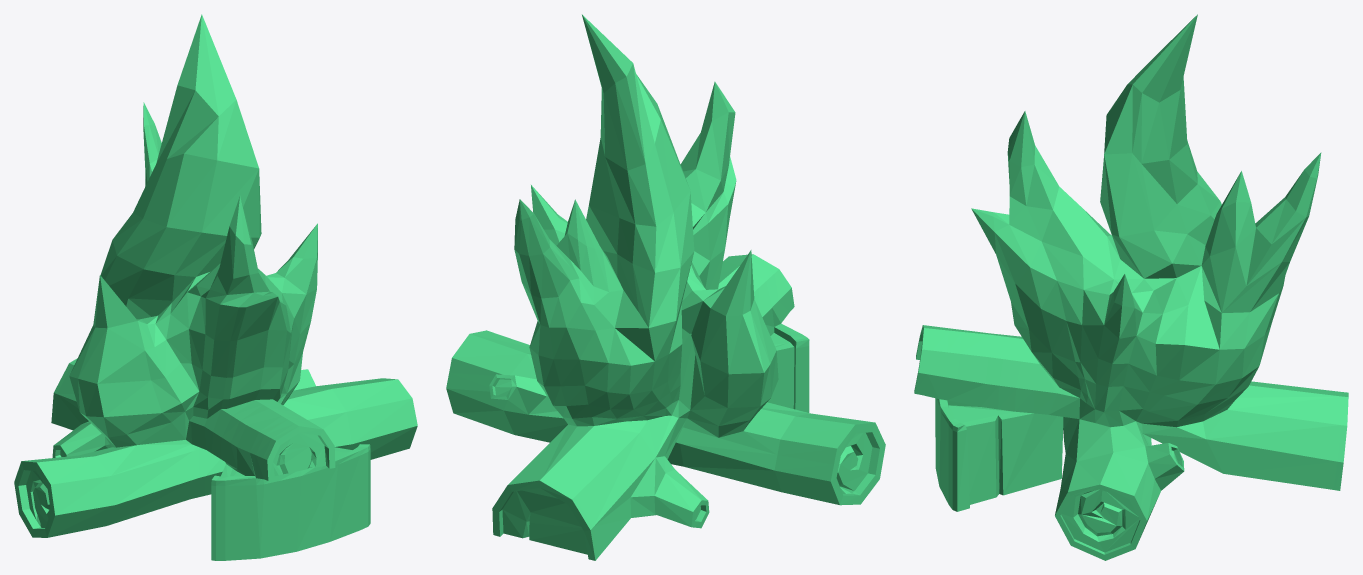
File: campfire.glb
3 renders of one model, left to right at view 1: azimuth 30°, elevation 25°; view 2: azimuth 150°, elevation 25°; view 3: azimuth 270°, elevation 25°, orthographic. The views are drawn at different scales.
Visible parts, largest first — view 1: firepit; view 2: firepit; view 3: firepit.
Part boxes in pixels (left/top/right/bottom): firepit: left=14, top=14, right=417, bottom=560; firepit: left=446, top=14, right=885, bottom=560; firepit: left=914, top=14, right=1348, bottom=560.
Size of the model in its own units: 2.05 by 2.37 by 1.97.
